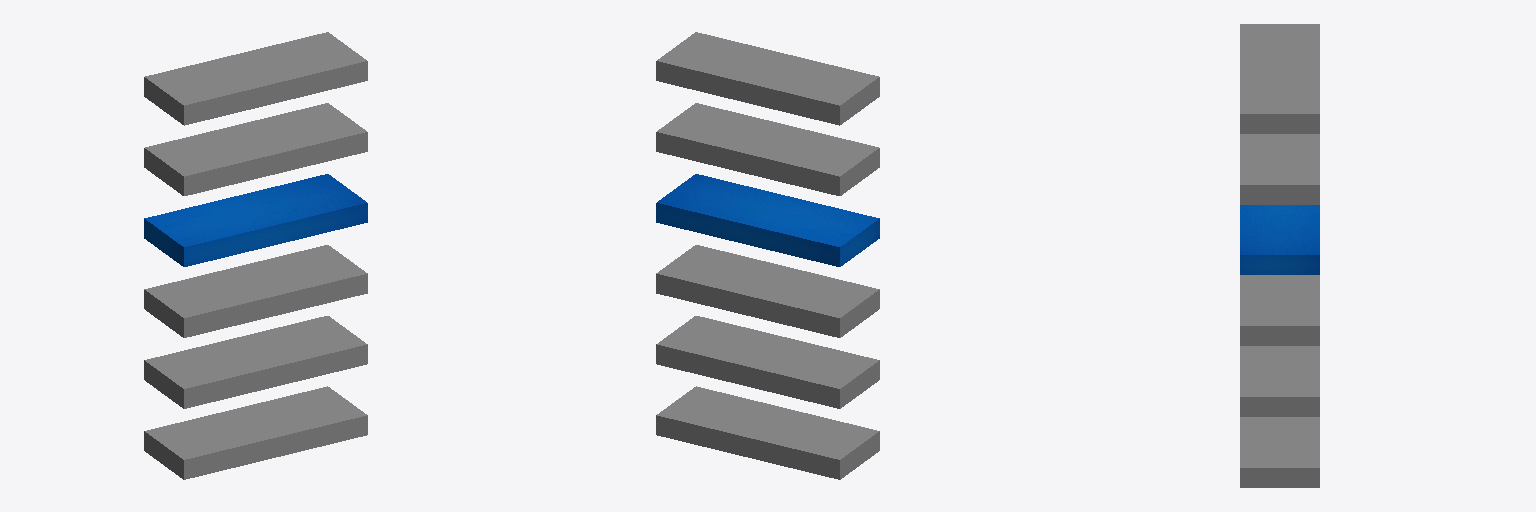
3 views of the same model, side by side, from view 1: azimuth 30°, elevation 25°; view 2: azimuth 150°, elevation 25°; view 3: azimuth 270°, elevation 25° (orthographic).
Parts seen in each view (by area): view 1: Shelf_0, Shelf_2, Shelf_3, Shelf_5, Shelf_1, Shelf_4; view 2: Shelf_0, Shelf_2, Shelf_3, Shelf_5, Shelf_1, Shelf_4; view 3: Shelf_5, Shelf_0, Shelf_1, Shelf_2, Shelf_4, Shelf_3.
Part boxes in pixels (x1,y1,x2,y2): Shelf_0: (144, 386, 367, 479); Shelf_2: (144, 245, 367, 337); Shelf_3: (144, 174, 367, 266); Shelf_5: (144, 32, 367, 125); Shelf_1: (144, 316, 367, 408); Shelf_4: (144, 103, 367, 195); Shelf_0: (656, 386, 879, 479); Shelf_2: (656, 245, 879, 337); Shelf_3: (656, 174, 879, 266); Shelf_5: (656, 32, 879, 125); Shelf_1: (656, 316, 879, 408); Shelf_4: (656, 103, 879, 195); Shelf_5: (1240, 24, 1319, 133); Shelf_0: (1240, 417, 1319, 487); Shelf_1: (1240, 346, 1319, 416); Shelf_2: (1240, 275, 1319, 345); Shelf_4: (1240, 134, 1319, 204); Shelf_3: (1240, 205, 1319, 274).
Size of the model in its own units: 122 by 238 by 45.72.
Materials: 4 (1 with a texture image).